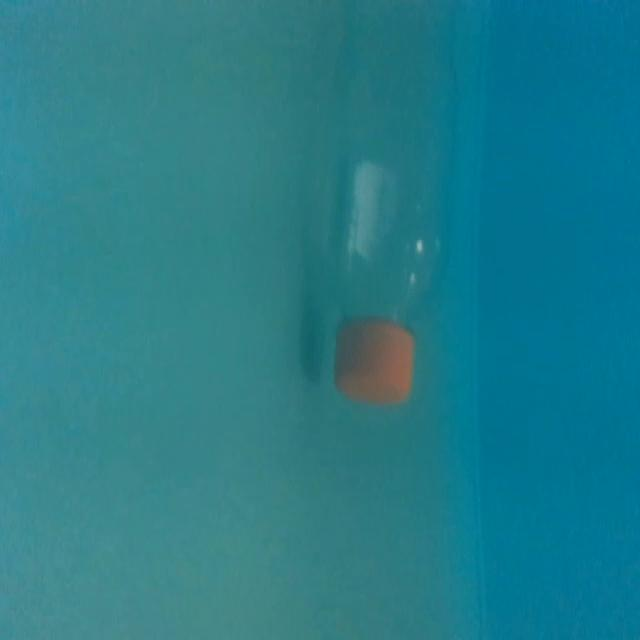plastic bottle: (316, 0, 465, 421)
